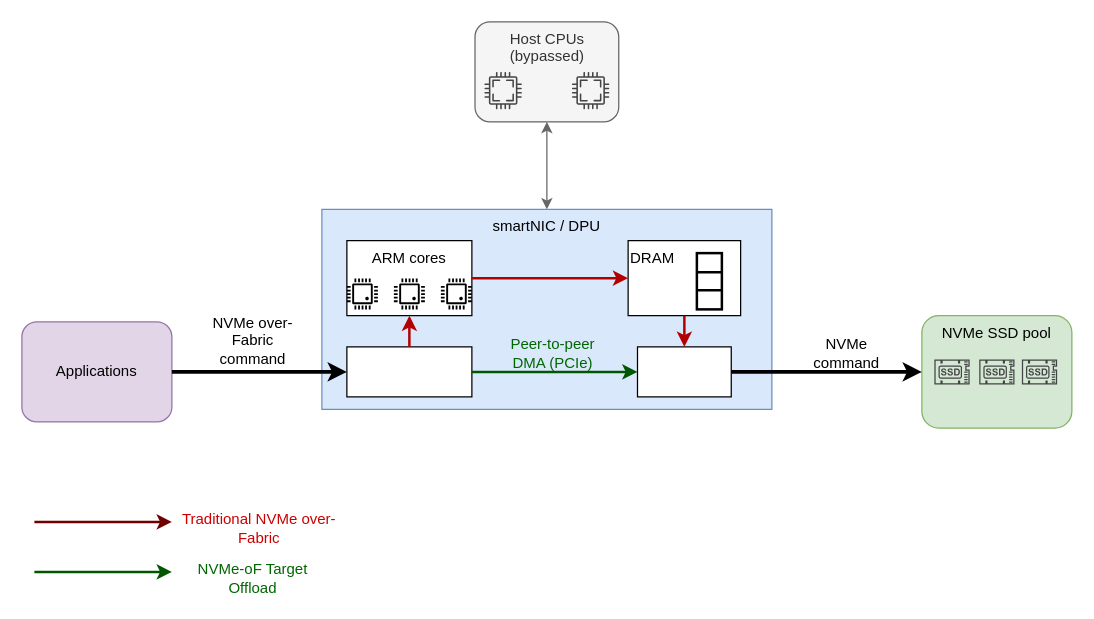
Some shapes in this 1094 by 619 pixel diagram are drawn without their labels. The shapes that lost their labels are listed below. From the top down, each one's centre as x and y in pixels, then its label:
At point 409,371: "Host Channel Adapter".
At point 683,371: "PCIe Switch".
